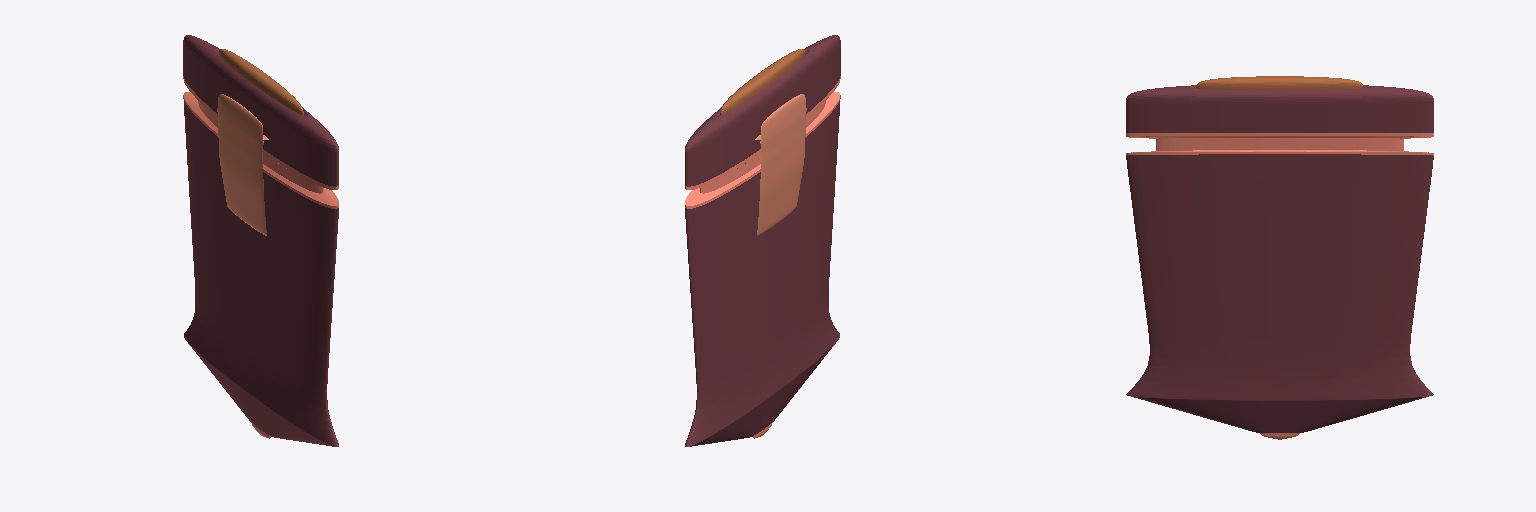
Rendered from rosegold2.obj.
3 views of the same model, side by side, from view 1: azimuth 30°, elevation 25°; view 2: azimuth 150°, elevation 25°; view 3: azimuth 270°, elevation 25° (orthographic).
Visible parts, largest first — view 1: pen; view 2: pen; view 3: pen.
Boxes of the visible parts, x1=… form: pen: x1=183, y1=35, x2=338, y2=446; pen: x1=685, y1=35, x2=840, y2=446; pen: x1=1126, y1=76, x2=1433, y2=439.
Bounding box in the file's own units: 0.1022 × 1.02 × 0.7824.